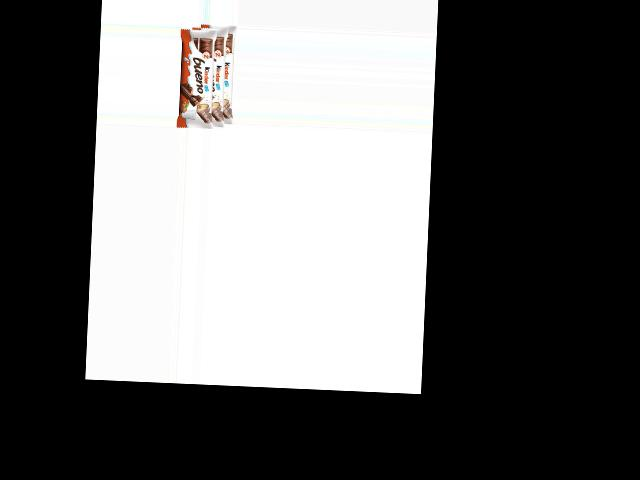chocolate: (175, 24, 236, 127)
